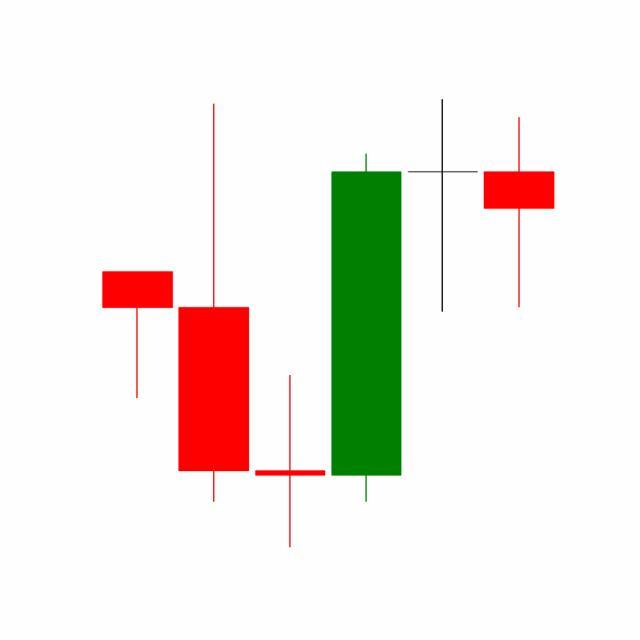Spinning Top: (404, 97, 482, 315)
